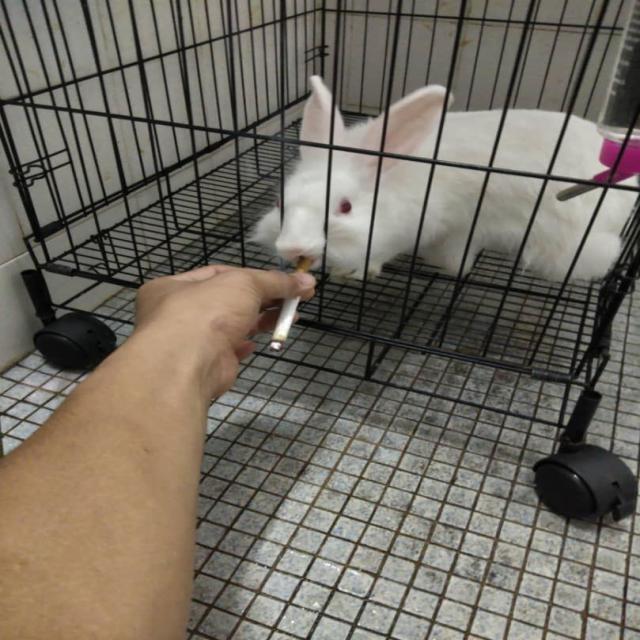rokok: (264, 258, 320, 354)
